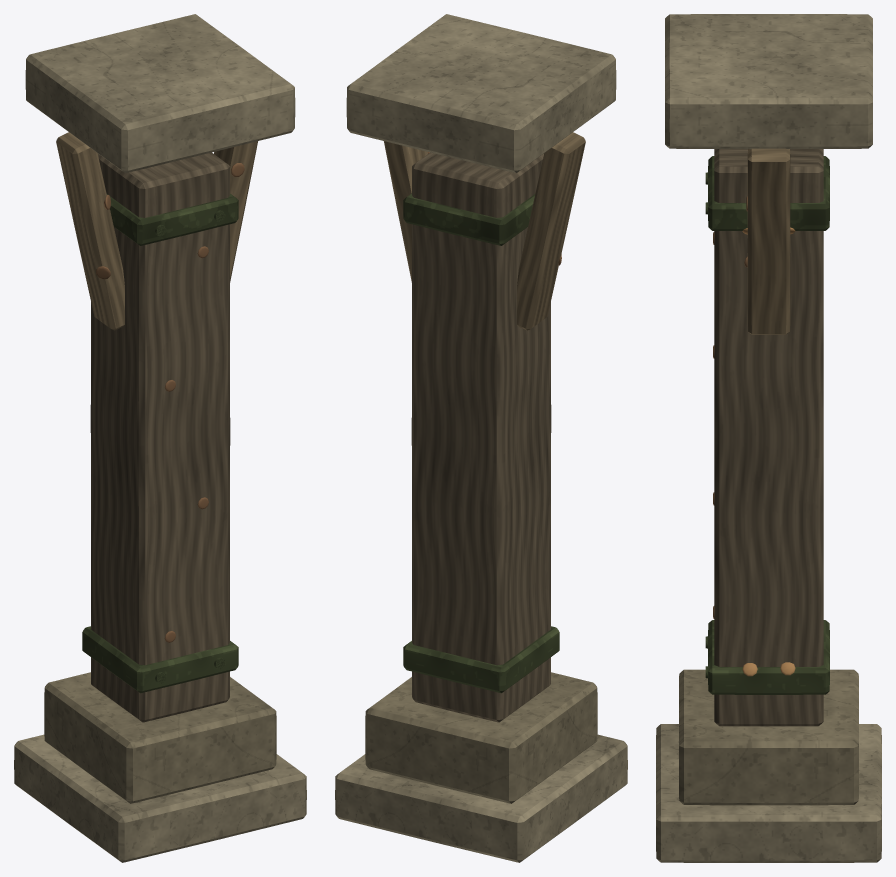
3 renders of one model, left to right at view 1: azimuth 30°, elevation 25°; view 2: azimuth 150°, elevation 25°; view 3: azimuth 270°, elevation 25°, orthographic. The views are drawn at different scales.
Visible parts, largest first — view 1: quarter-sawn-timber, sandstone-edges, weathered-sandstone-ashlar, exposed-end-grain, olive-painted-field-steel; view 2: quarter-sawn-timber, sandstone-edges, weathered-sandstone-ashlar, exposed-end-grain, olive-painted-field-steel; view 3: quarter-sawn-timber, sandstone-edges, weathered-sandstone-ashlar, exposed-end-grain, olive-painted-field-steel.
Boxes of the visible parts, x1,y1,x2,y2 form: quarter-sawn-timber: (90,152,230,722); sandstone-edges: (14,14,306,862); weathered-sandstone-ashlar: (44,672,276,803); exposed-end-grain: (56,132,257,330); olive-painted-field-steel: (82,193,238,693); quarter-sawn-timber: (411,152,551,722); sandstone-edges: (335,14,627,862); weathered-sandstone-ashlar: (365,672,597,803); exposed-end-grain: (384,132,585,330); olive-painted-field-steel: (403,193,559,693); quarter-sawn-timber: (714,149,823,726); sandstone-edges: (656,14,881,862); weathered-sandstone-ashlar: (679,669,858,805); exposed-end-grain: (747,148,790,334); olive-painted-field-steel: (705,156,829,694).
Size of the model in its own units: 0.6534 by 2.38 by 0.64.
Materials: 8 (6 with a texture image).
